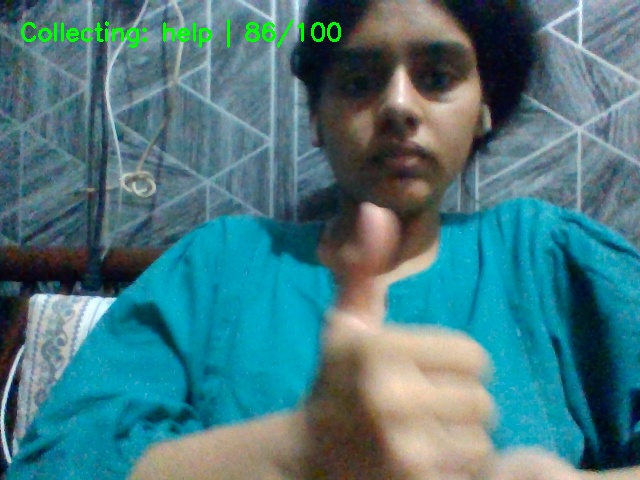help: (279, 196, 595, 476)
